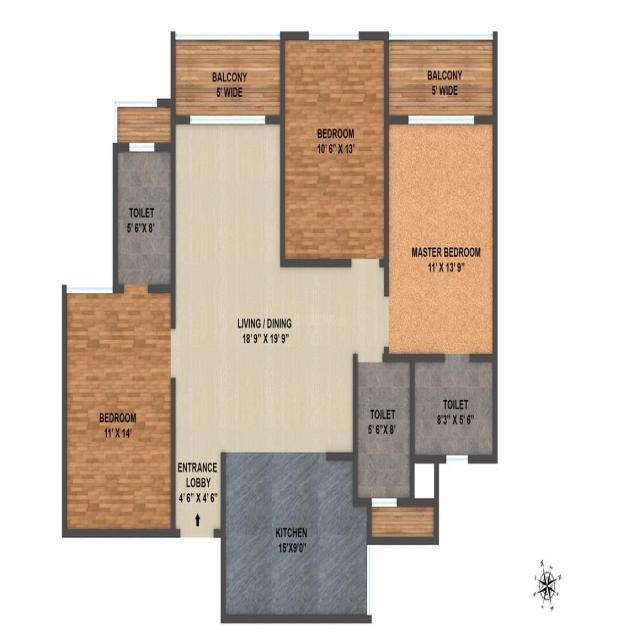Balcony-Sitout: (173, 38, 282, 118), (388, 39, 494, 115)
Bedroom: (284, 38, 386, 261)
Bedroom with Toilet: (65, 145, 171, 534), (387, 120, 495, 459)
Enterance-Foyer: (175, 474, 225, 553)
Kitchen: (223, 456, 367, 619)
Living: (173, 123, 355, 454)
Toilet: (117, 149, 171, 288), (414, 361, 492, 453), (357, 362, 409, 499)
